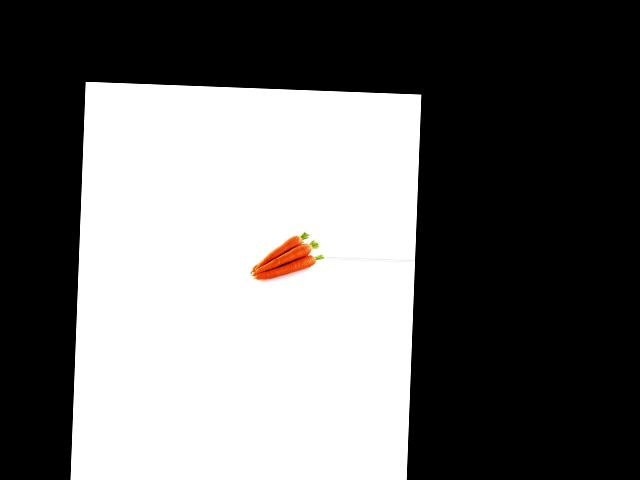carrot: (256, 251, 314, 280)
